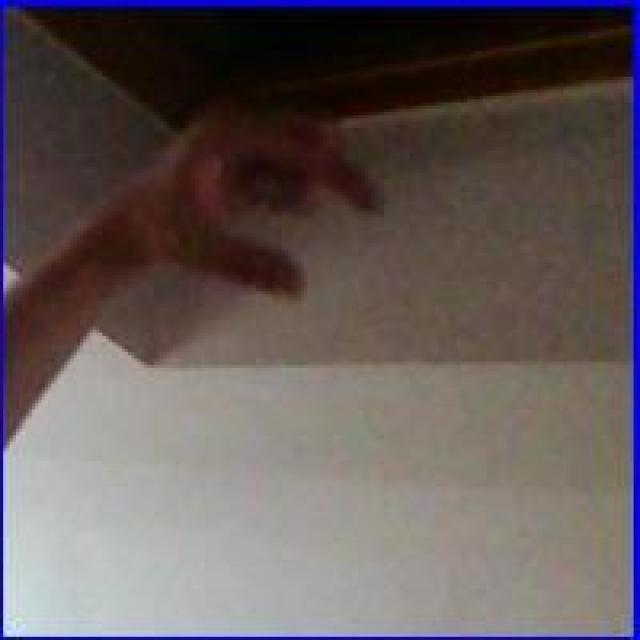Q: (123, 86, 392, 308)
